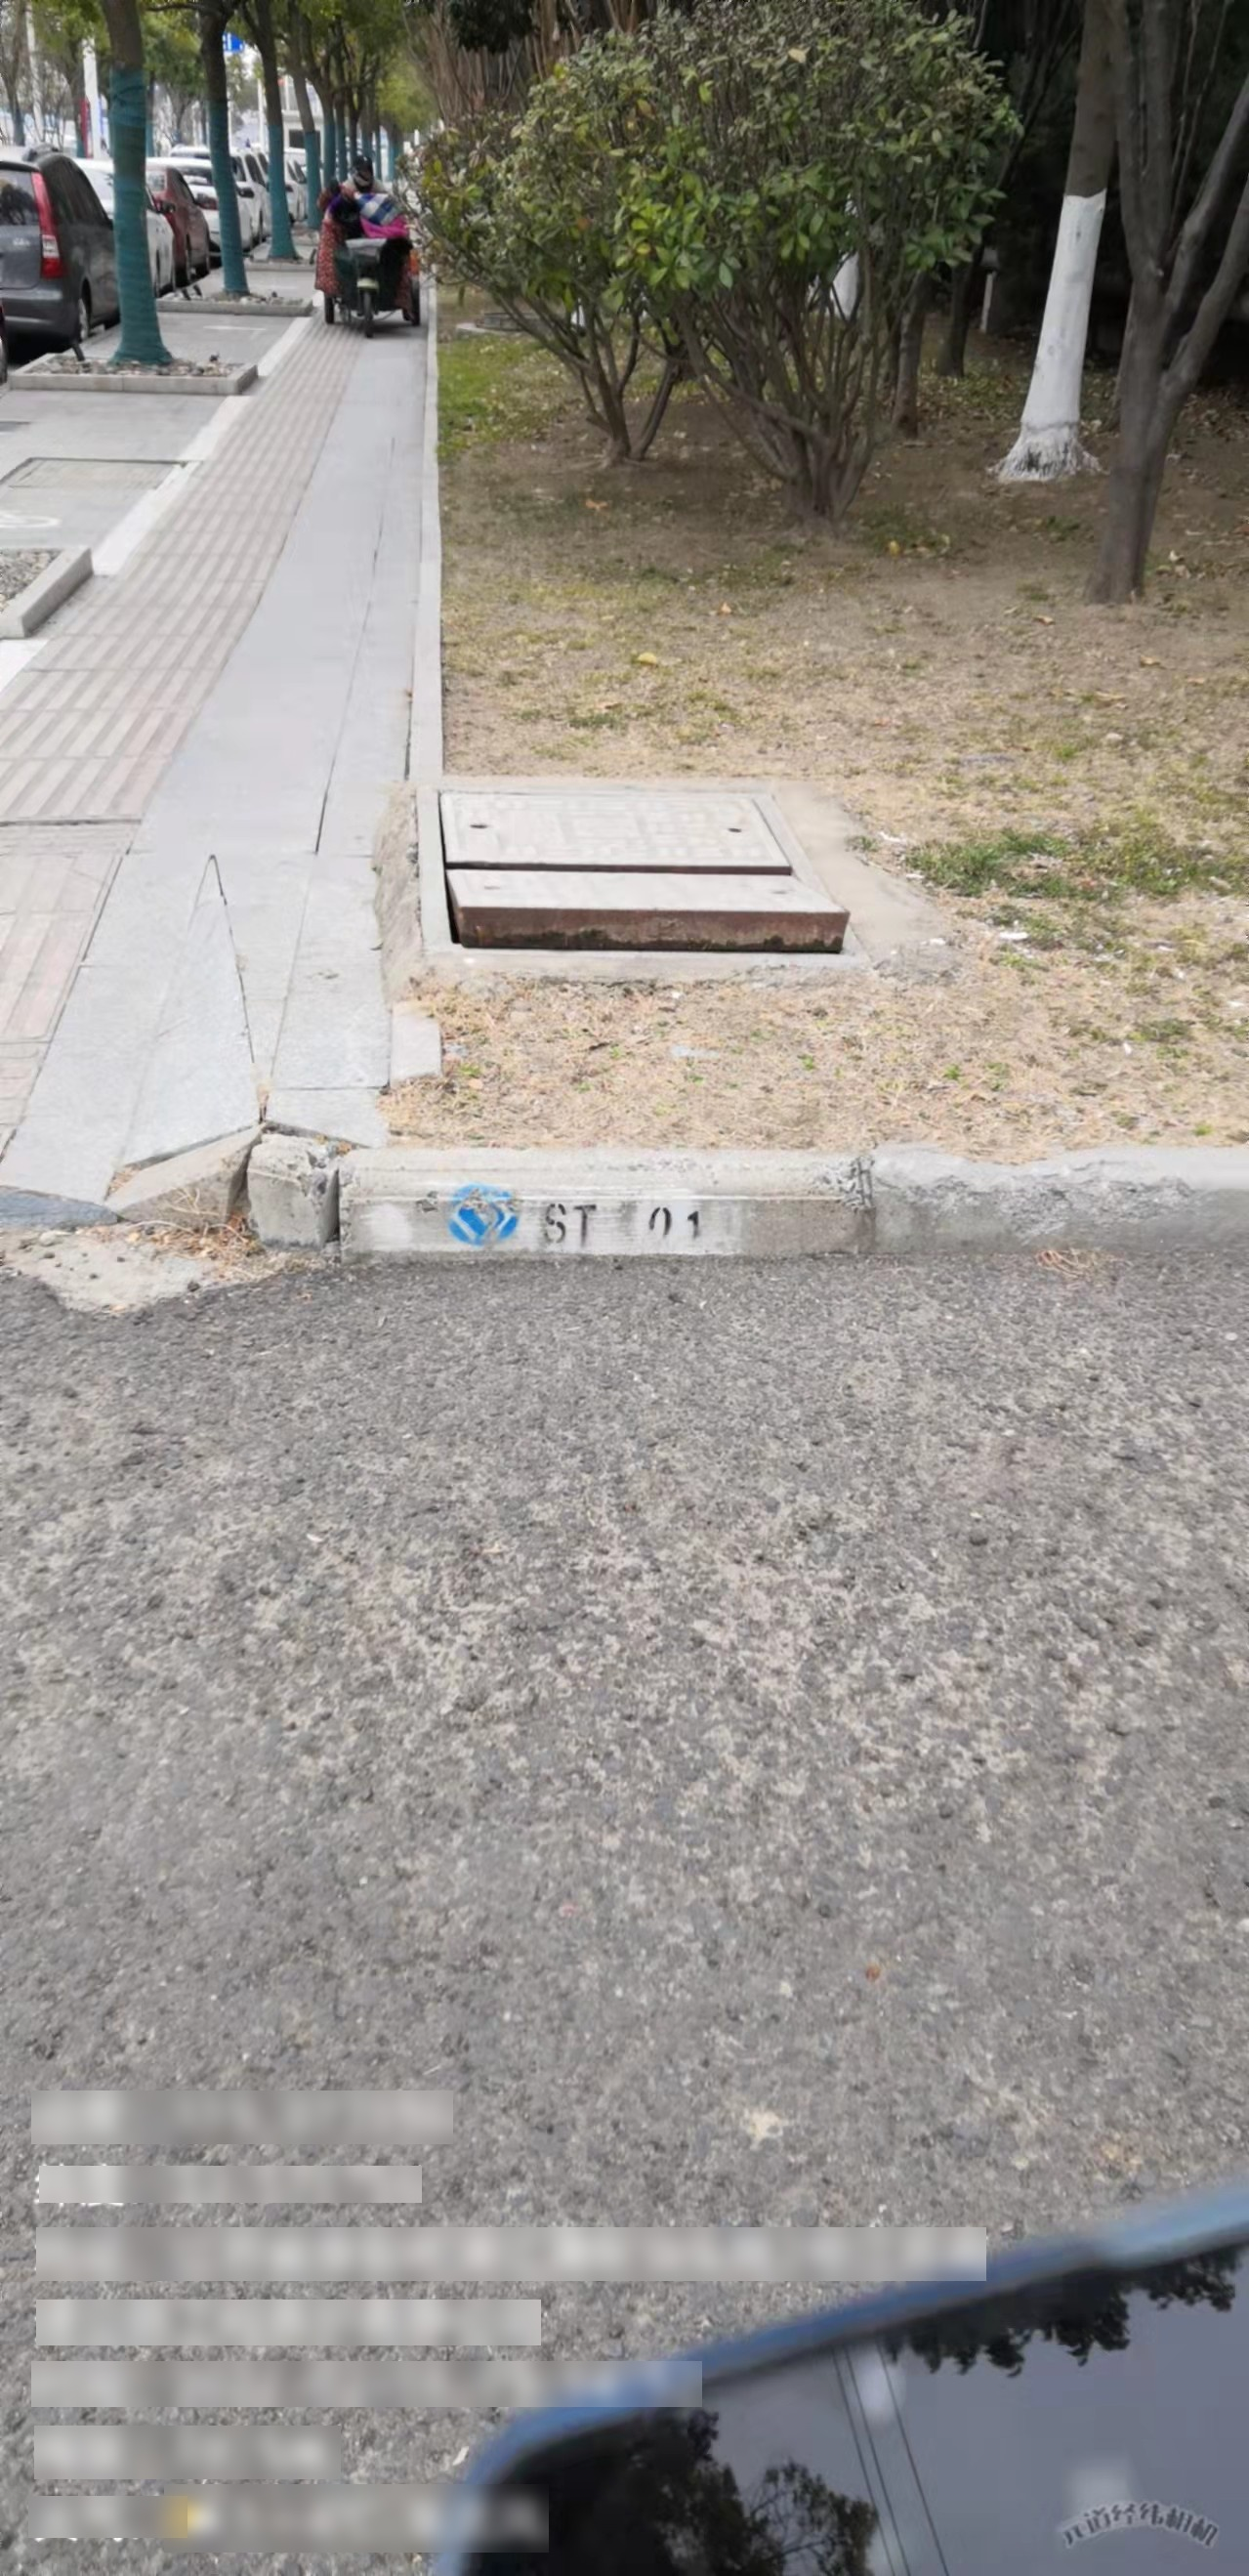uncovered: (410, 775, 865, 974)
